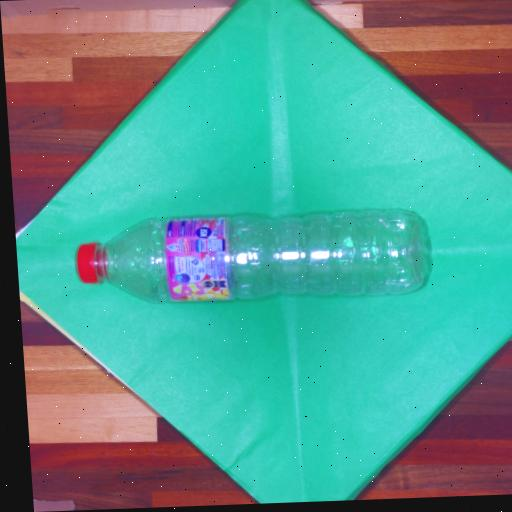bottle: (77, 210, 428, 300)
